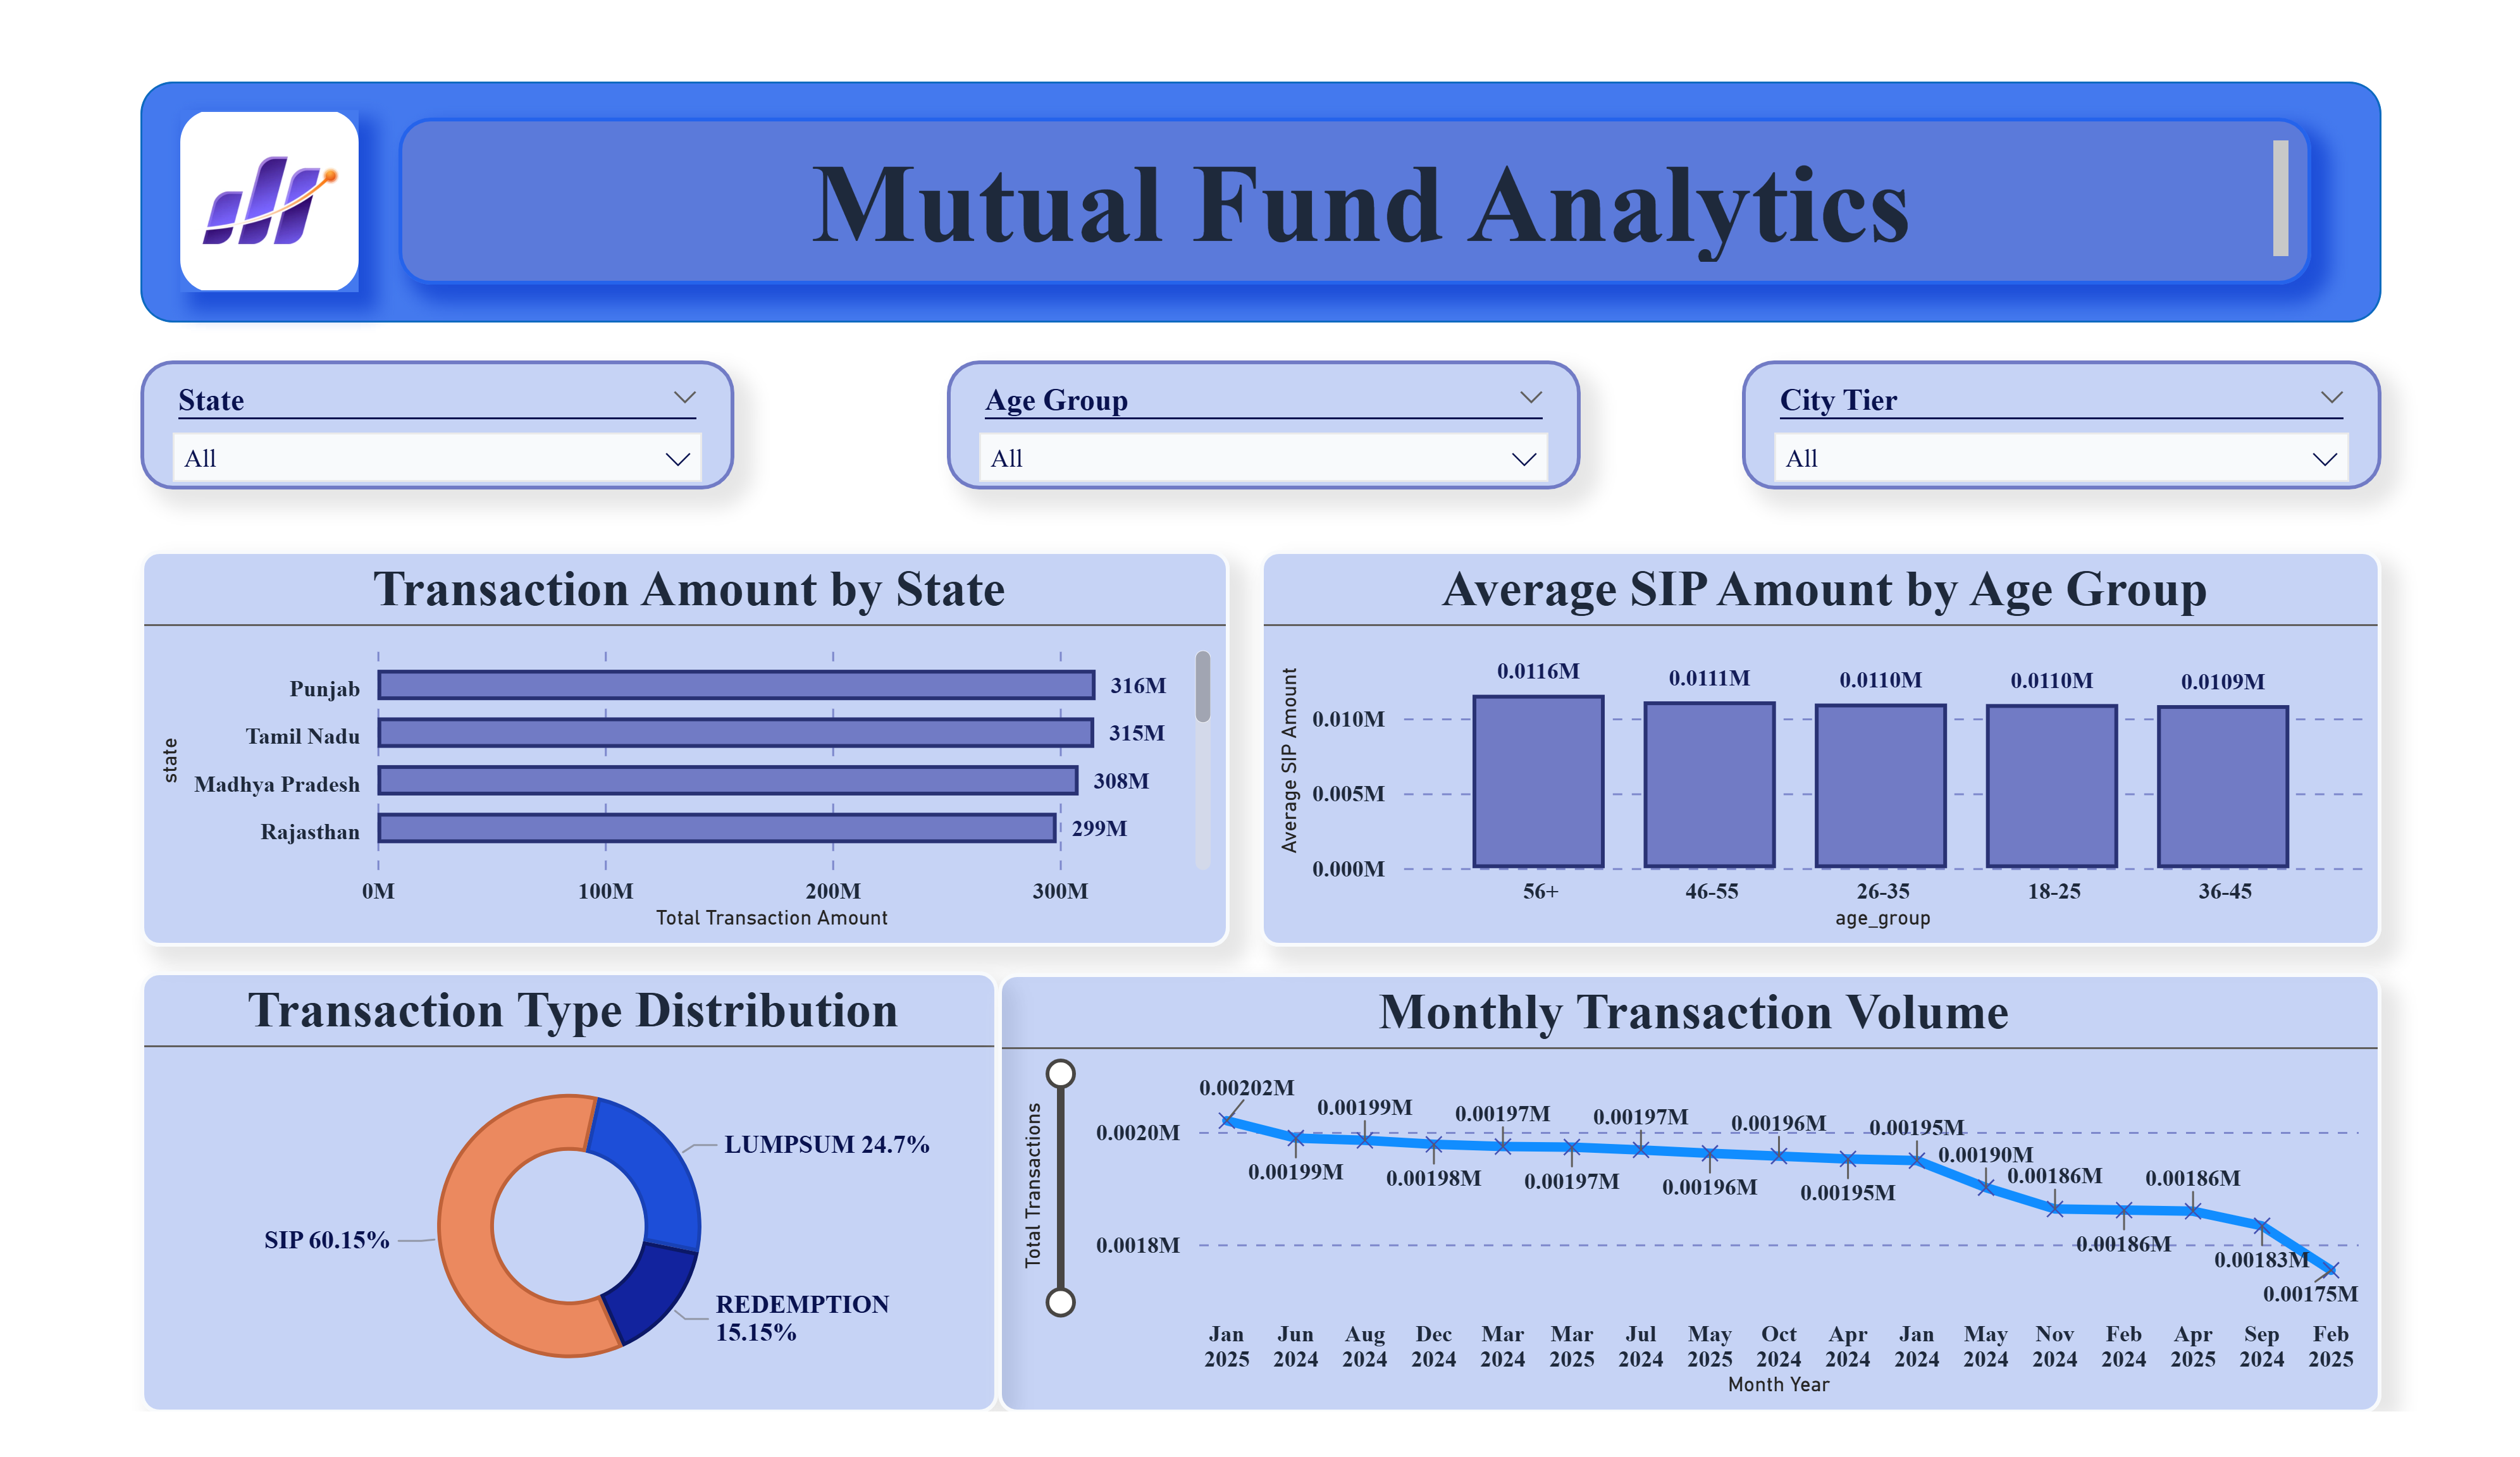

This screenshot's page, from the dashboard's own definition file:
{"tool":"powerbi","page":{"name":"Investor Analytics","canvas":[1280,720],"ordinal":2},"visuals":[{"type":"shape","box":[49.7,18.6,1181.8,127.3],"z":0},{"type":"image","box":[71.4,34.2,93.2,96.3],"z":1000},{"type":"textbox","box":[186.4,37.8,1007.7,88.3],"z":2000},{"type":"clusteredBarChart","title":"Transaction Amount by State","fields":{"Y":["investor_transactions_clean.Total Transaction Amount"],"Category":["investor_transactions_clean.state"]},"box":[49.7,265.5,574.6,209.6],"z":3000},{"type":"donutChart","title":"Transaction Type Distribution","fields":{"Category":["investor_transactions_clean.transaction_type"],"Y":["investor_transactions_clean.Total Transactions"]},"box":[49.7,487.6,451.9,232.9],"z":4000},{"type":"clusteredColumnChart","title":"Average SIP Amount by Age Group","fields":{"Category":["investor_transactions_clean.age_group"],"Y":["sip_clean.Average SIP Amount"]},"box":[639.8,265.5,591.7,209.6],"z":5000},{"type":"lineChart","title":"Monthly Transaction Volume","fields":{"Category":["investor_transactions_clean.Month Year"],"Y":["investor_transactions_clean.Total Transactions"]},"box":[501.6,489.2,729.9,231.4],"z":6000},{"type":"slicer","fields":{"Values":["investor_transactions_clean.state"]},"box":[49.7,166.2,313.7,68.3],"z":7000},{"type":"slicer","fields":{"Values":["investor_transactions_clean.age_group"]},"box":[475.2,166.2,333.9,68.3],"z":8000},{"type":"slicer","fields":{"Values":["investor_transactions_clean.city_tier"]},"box":[894.5,166.2,337,68.3],"z":9000}]}

Visuals, with their boxes in screenshot pixels (x1, y1, x2, y2), scaled from the page's 1280x720 canvas onto the 2520x1457 screenshot:
shape: {"x1": 98, "y1": 38, "x2": 2424, "y2": 295}
image: {"x1": 140, "y1": 69, "x2": 324, "y2": 264}
textbox: {"x1": 367, "y1": 77, "x2": 2351, "y2": 255}
"Transaction Amount by State" clusteredBarChart: {"x1": 98, "y1": 538, "x2": 1229, "y2": 961}
"Transaction Type Distribution" donutChart: {"x1": 98, "y1": 987, "x2": 987, "y2": 1456}
"Average SIP Amount by Age Group" clusteredColumnChart: {"x1": 1259, "y1": 538, "x2": 2424, "y2": 961}
"Monthly Transaction Volume" lineChart: {"x1": 987, "y1": 990, "x2": 2424, "y2": 1456}
slicer - investor_transactions_clean.state: {"x1": 98, "y1": 336, "x2": 715, "y2": 474}
slicer - investor_transactions_clean.age_group: {"x1": 936, "y1": 336, "x2": 1593, "y2": 474}
slicer - investor_transactions_clean.city_tier: {"x1": 1761, "y1": 336, "x2": 2424, "y2": 474}
